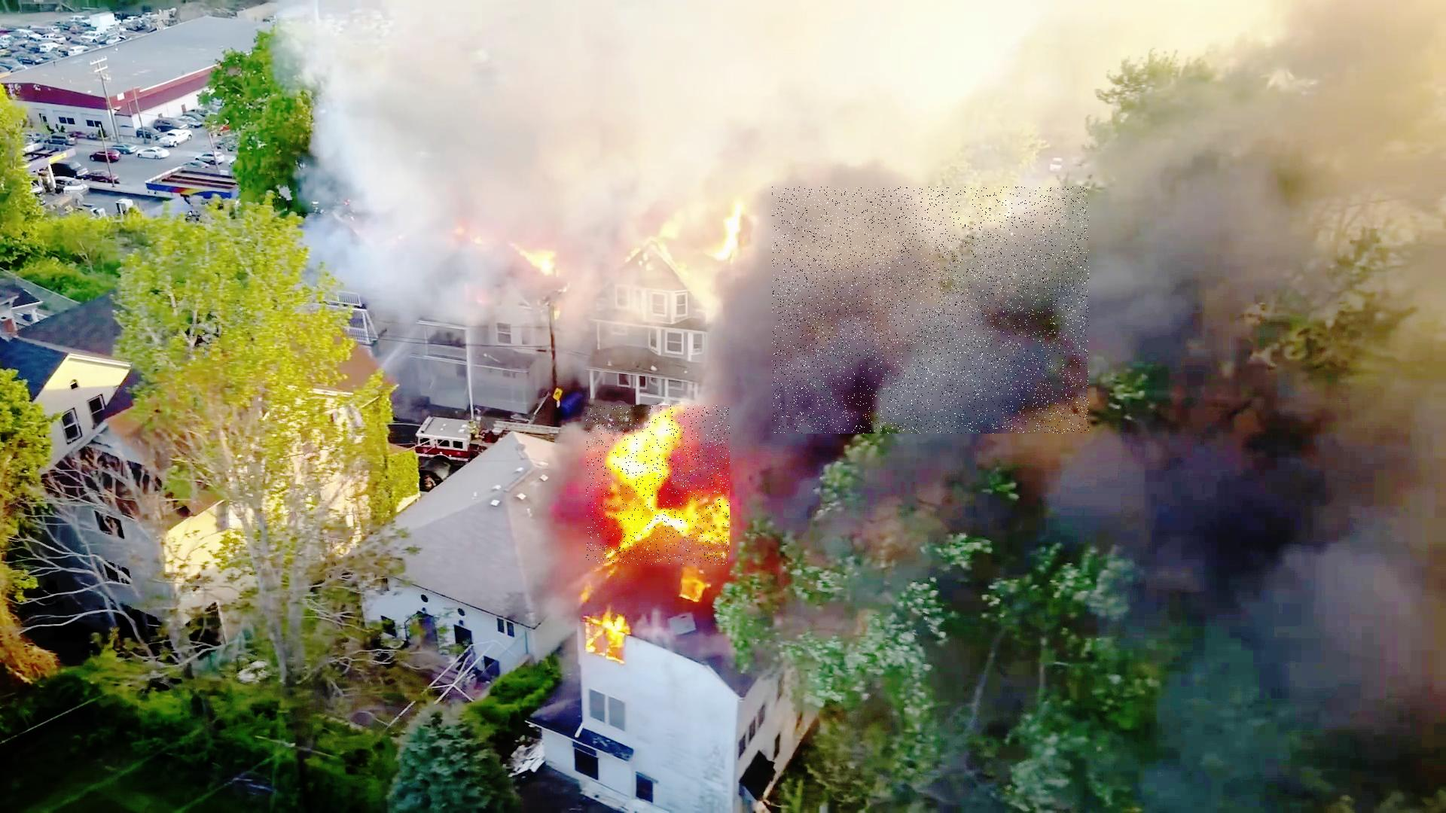fire: (586, 405, 730, 565)
smoke: (772, 187, 1090, 434)
